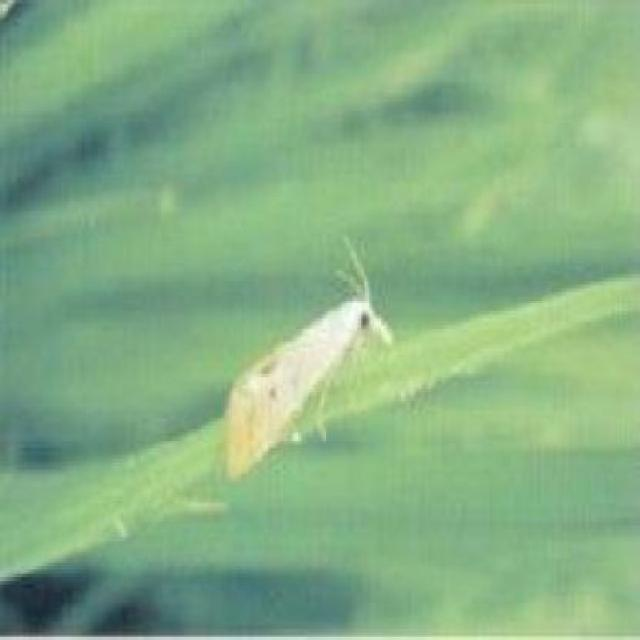stem-borer: (217, 250, 400, 484)
